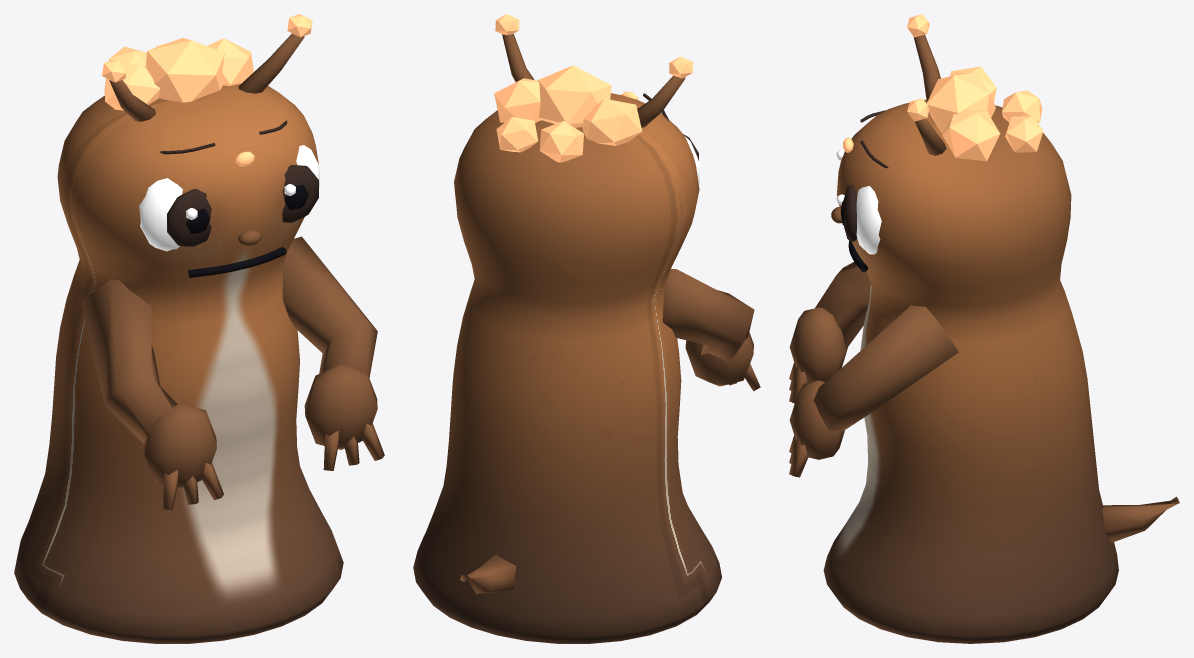
The model's file is carnero_pixar.glb.
The picture shows the model from 3 angles, left to right: view 1: azimuth 30°, elevation 25°; view 2: azimuth 150°, elevation 25°; view 3: azimuth 270°, elevation 25°; orthographic projection. The views are drawn at different scales.
Visible parts, largest first — view 1: carnero_cuerpo; view 2: carnero_cuerpo; view 3: carnero_cuerpo.
Boxes of the visible parts, x1,y1,x2,y2 form: carnero_cuerpo: (14, 14, 384, 643); carnero_cuerpo: (413, 14, 760, 643); carnero_cuerpo: (789, 14, 1179, 643).
Size of the model in its own units: 0.3116 by 0.58 by 0.3925.
Materials: 5 (1 with a texture image).
